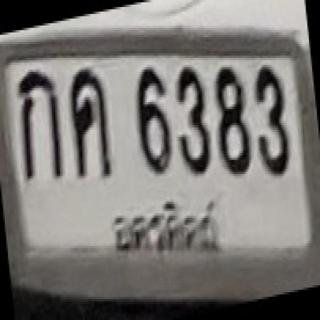A01: (11, 64, 65, 184)
A04: (64, 61, 119, 183)
N03: (172, 61, 215, 180), (252, 62, 292, 178)
N06: (130, 62, 175, 178)
N08: (212, 62, 252, 177)
P75: (108, 196, 223, 260)
